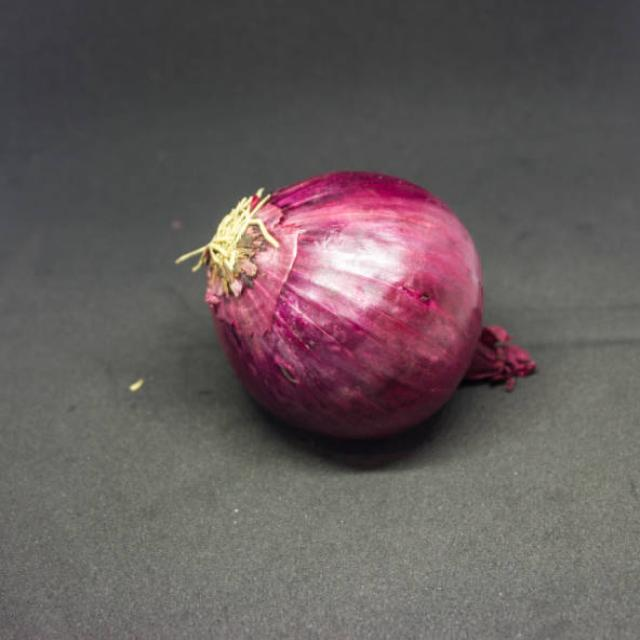onion: (212, 161, 490, 460)
